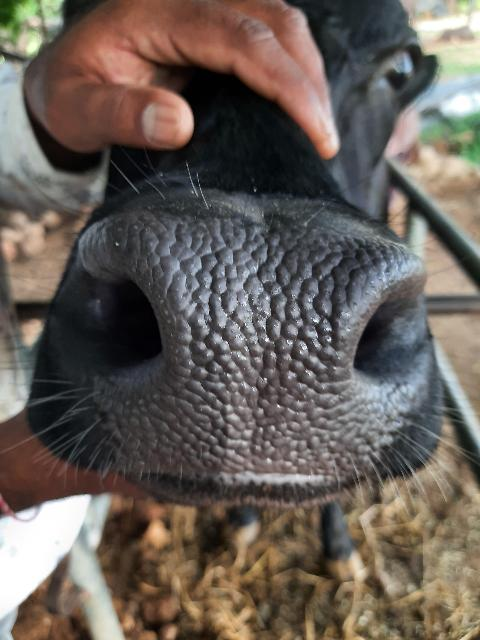Muzzle: (112, 209, 390, 467)
